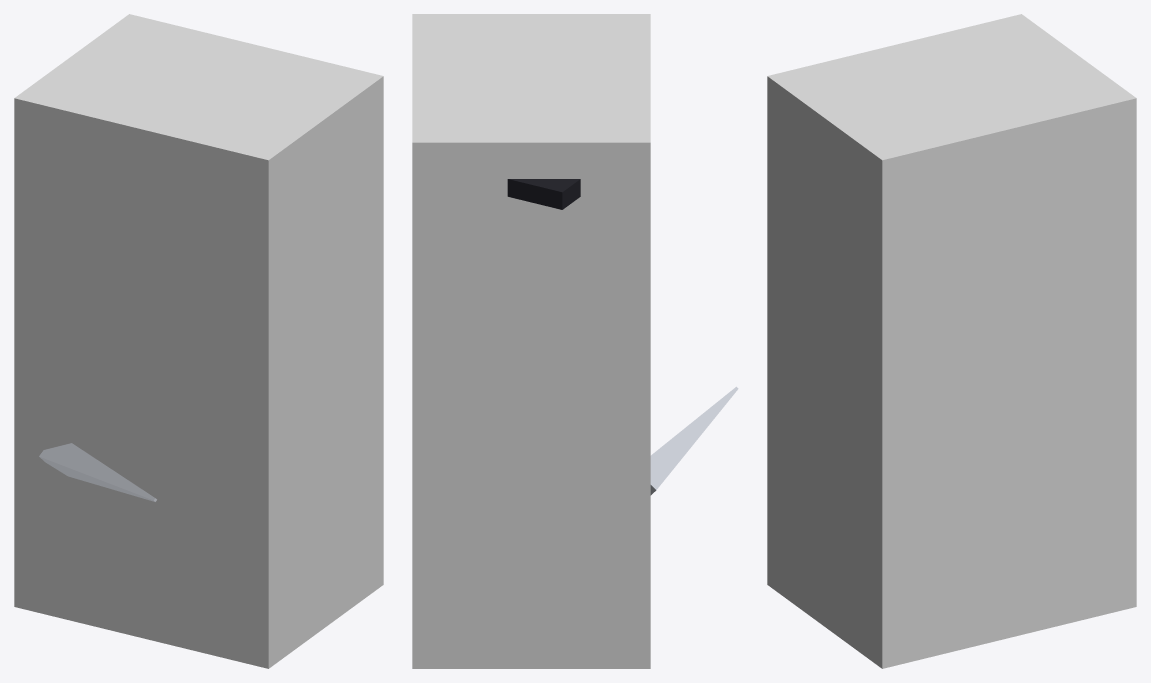
File: plains_shipwrecked_pirate.fbx
3 views of the same model, side by side, from view 1: azimuth 30°, elevation 25°; view 2: azimuth 150°, elevation 25°; view 3: azimuth 270°, elevation 25° (orthographic). The views are drawn at different scales.
Visible parts, largest first — view 1: Root__0.02_2.75_-0.69__2.26_5.50_2.88, ArmR__Torso__0.82_3.58_0.00; view 2: Root__0.02_2.75_-0.69__2.26_5.50_2.88, ArmR__Torso__0.82_3.58_0.00, Head__Torso__0.00_3.79_0.00; view 3: Root__0.02_2.75_-0.69__2.26_5.50_2.88.
Part boxes in pixels (bbox=[...]): Root__0.02_2.75_-0.69__2.26_5.50_2.88: bbox=[14, 14, 383, 668]; ArmR__Torso__0.82_3.58_0.00: bbox=[39, 443, 156, 501]; Root__0.02_2.75_-0.69__2.26_5.50_2.88: bbox=[412, 14, 650, 668]; ArmR__Torso__0.82_3.58_0.00: bbox=[650, 386, 738, 495]; Head__Torso__0.00_3.79_0.00: bbox=[507, 179, 580, 209]; Root__0.02_2.75_-0.69__2.26_5.50_2.88: bbox=[767, 14, 1136, 668].
Size of the model in its own units: 95 by 155 by 101.
1 material, 1 textured.
